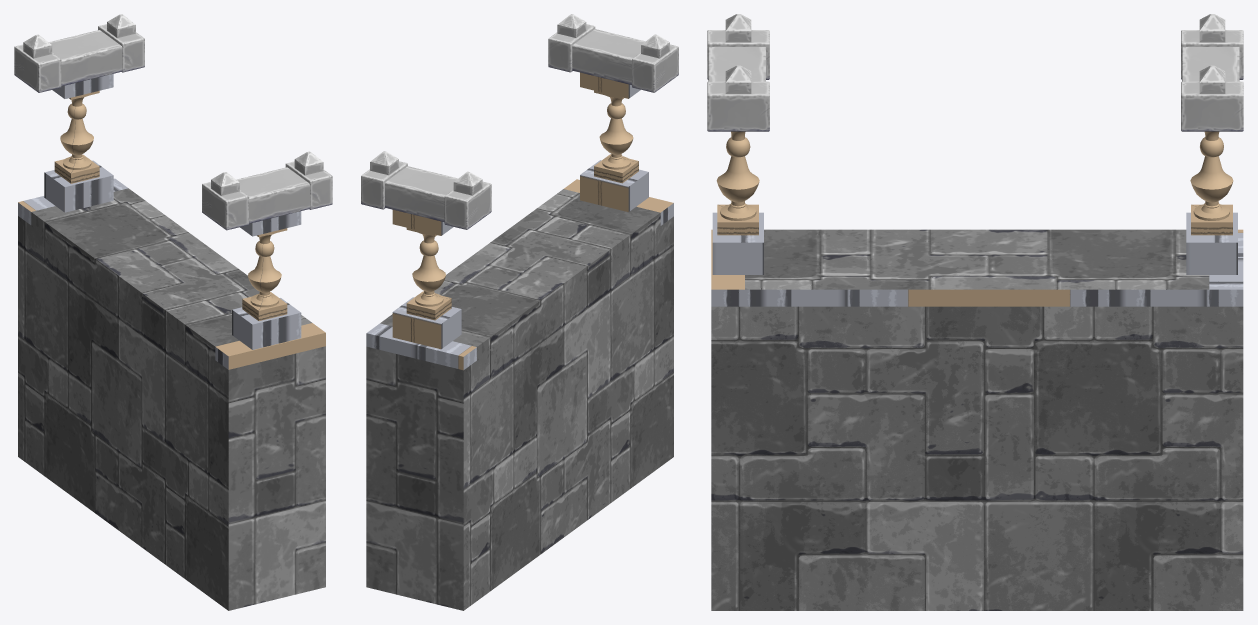
Rendered from Puente_balostres_Base.fbx.
3 renders of one model, left to right at view 1: azimuth 30°, elevation 25°; view 2: azimuth 150°, elevation 25°; view 3: azimuth 270°, elevation 25°, orthographic. The views are drawn at different scales.
Visible parts, largest first — view 1: Puente_Balostres_base_LOD0; view 2: Puente_Balostres_base_LOD0; view 3: Puente_Balostres_base_LOD0.
Boxes of the visible parts, x1,y1,x2,y2 form: Puente_Balostres_base_LOD0: (14, 14, 332, 610); Puente_Balostres_base_LOD0: (361, 14, 678, 610); Puente_Balostres_base_LOD0: (707, 14, 1243, 610).
Size of what is drawn, in the model's own units: 87.62 by 337 by 302.
